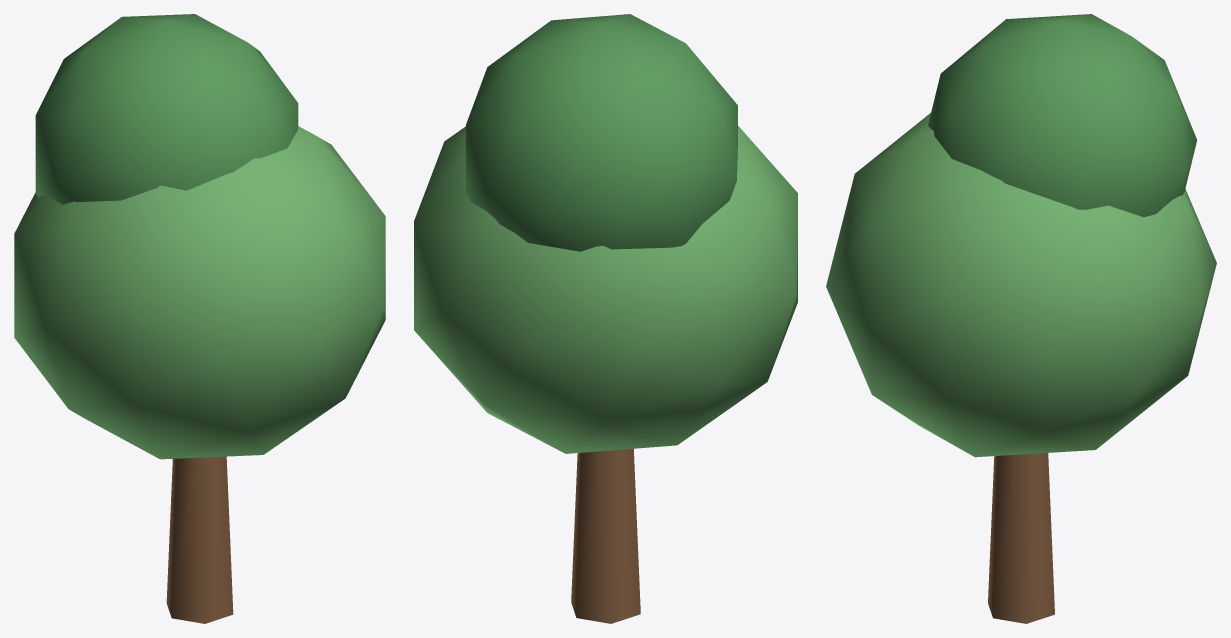
File: arbol.glb
3 renders of one model, left to right at view 1: azimuth 30°, elevation 25°; view 2: azimuth 150°, elevation 25°; view 3: azimuth 270°, elevation 25°, orthographic. The views are drawn at different scales.
Size of the model in its own units: 2.38 by 3.89 by 2.38.
